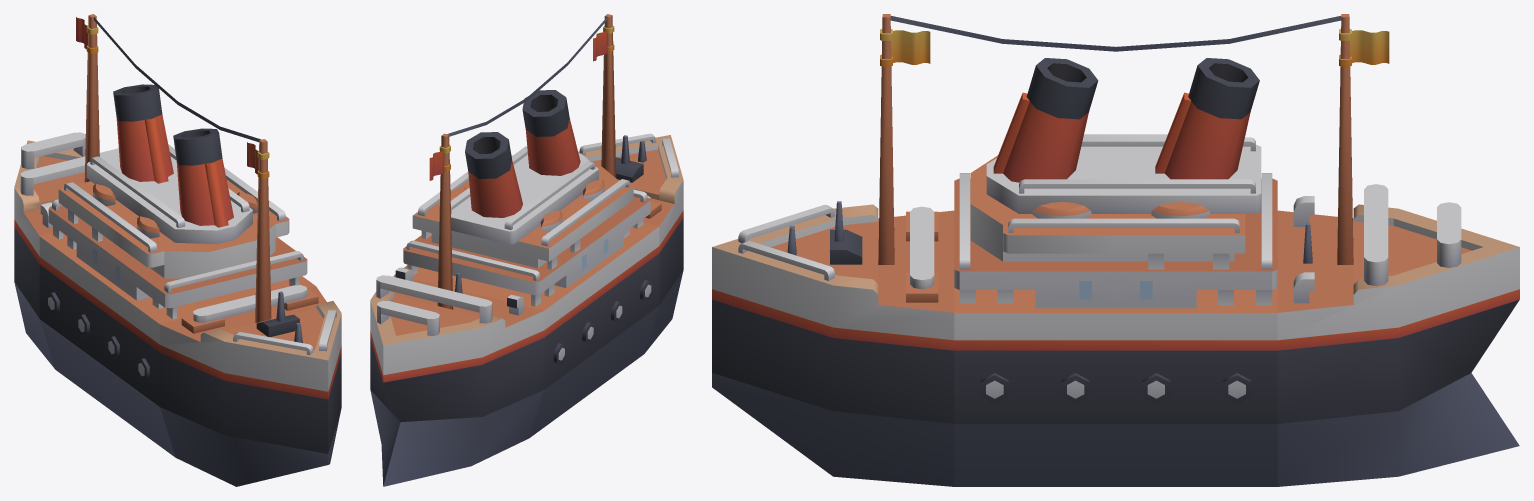
The model's file is boats.glb.
3 views of the same model, side by side, from view 1: azimuth 30°, elevation 25°; view 2: azimuth 150°, elevation 25°; view 3: azimuth 270°, elevation 25° (orthographic). The views are drawn at different scales.
Parts seen in each view (by area): view 1: launch; view 2: launch; view 3: launch.
Part boxes in pixels (x1,y1,x2,y2): launch: (14, 14, 341, 486); launch: (370, 14, 683, 486); launch: (712, 14, 1519, 486).
Size of the model in its own units: 14.4 by 27.04 by 46.
